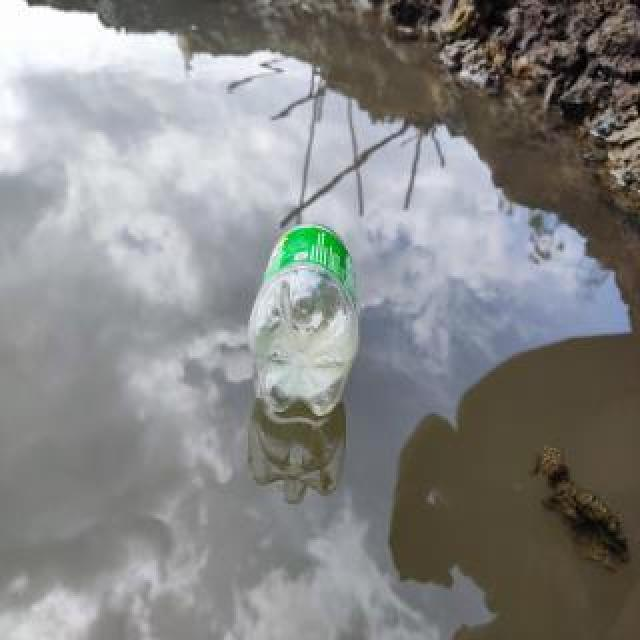bottle: (244, 215, 364, 423)
